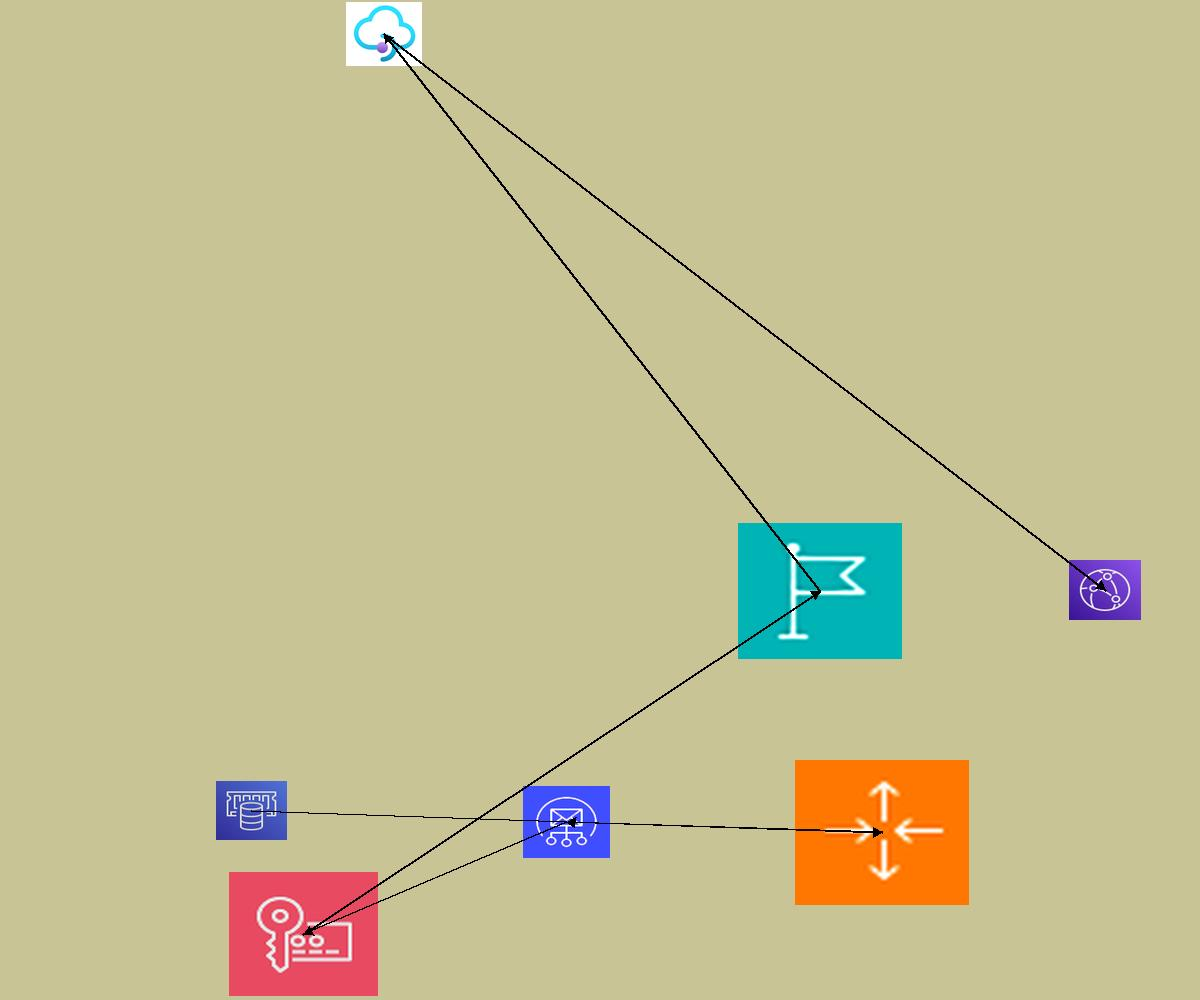AWS-CloudFront: (1069, 560, 1141, 620)
AWS-ElastiCache: (216, 781, 287, 840)
AWS-Key-Management-Service: (229, 872, 378, 996)
AWS-Region: (738, 523, 902, 659)
AWS-Scaling-group: (795, 760, 969, 905)
AWS-Simple-Email-Service: (523, 786, 610, 858)
Azure_api_gateway: (346, 2, 422, 66)
